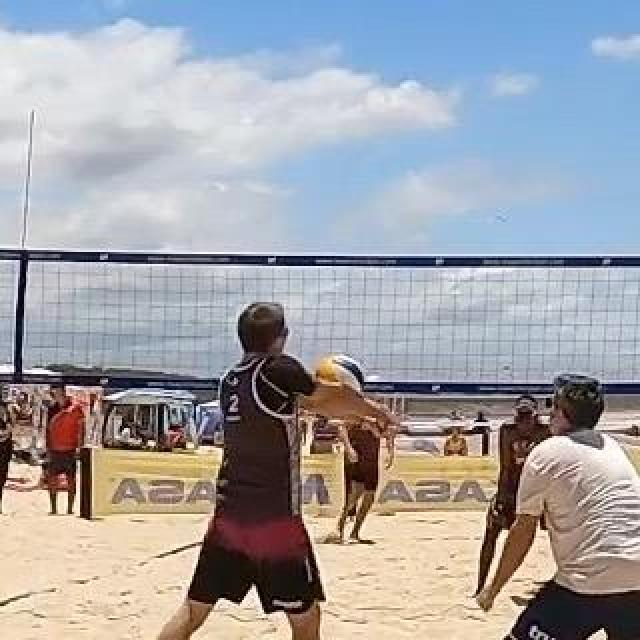volleyball: (316, 353, 366, 407)
